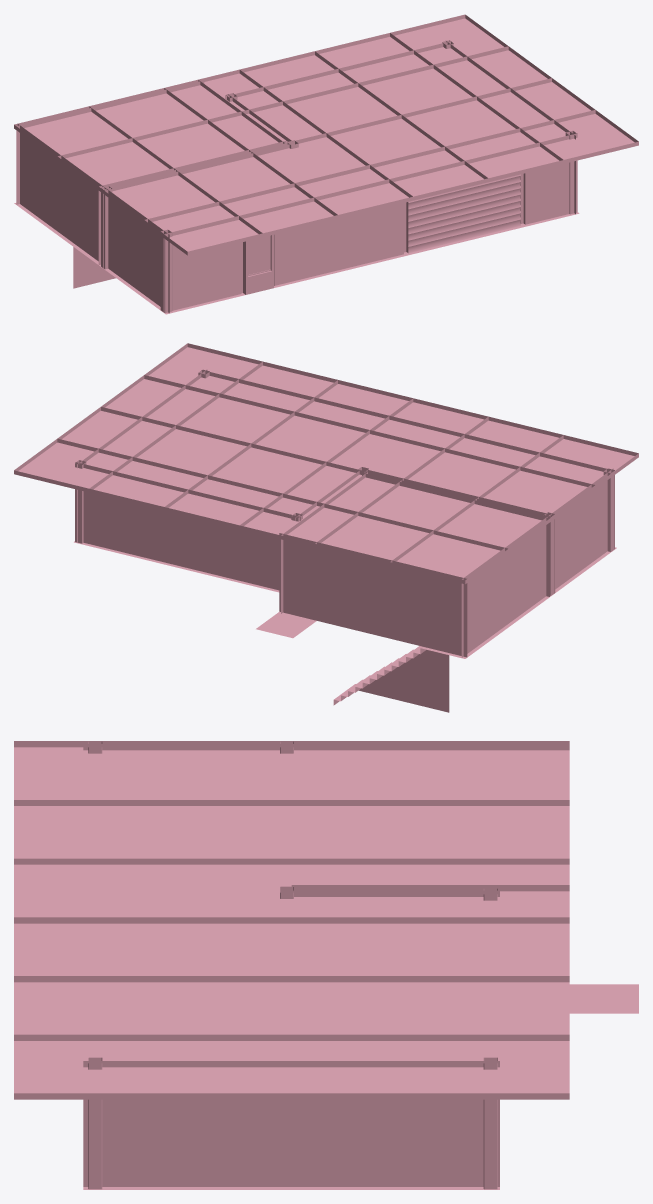
File: GarageStructure.fbx
3 renders of one model, top to bottom at view 1: azimuth 30°, elevation 25°; view 2: azimuth 150°, elevation 25°; view 3: azimuth 270°, elevation 25°, orthographic. The views are drawn at different scales.
Visible parts, largest first — view 1: GarageStructure; view 2: GarageStructure; view 3: GarageStructure.
Part boxes in pixels (box(x1,y1,x2,y2)): GarageStructure: box(14, 14, 638, 314); GarageStructure: box(14, 343, 638, 712); GarageStructure: box(14, 741, 638, 1189).
Size of the model in its own units: 2400 by 800 by 1800.
